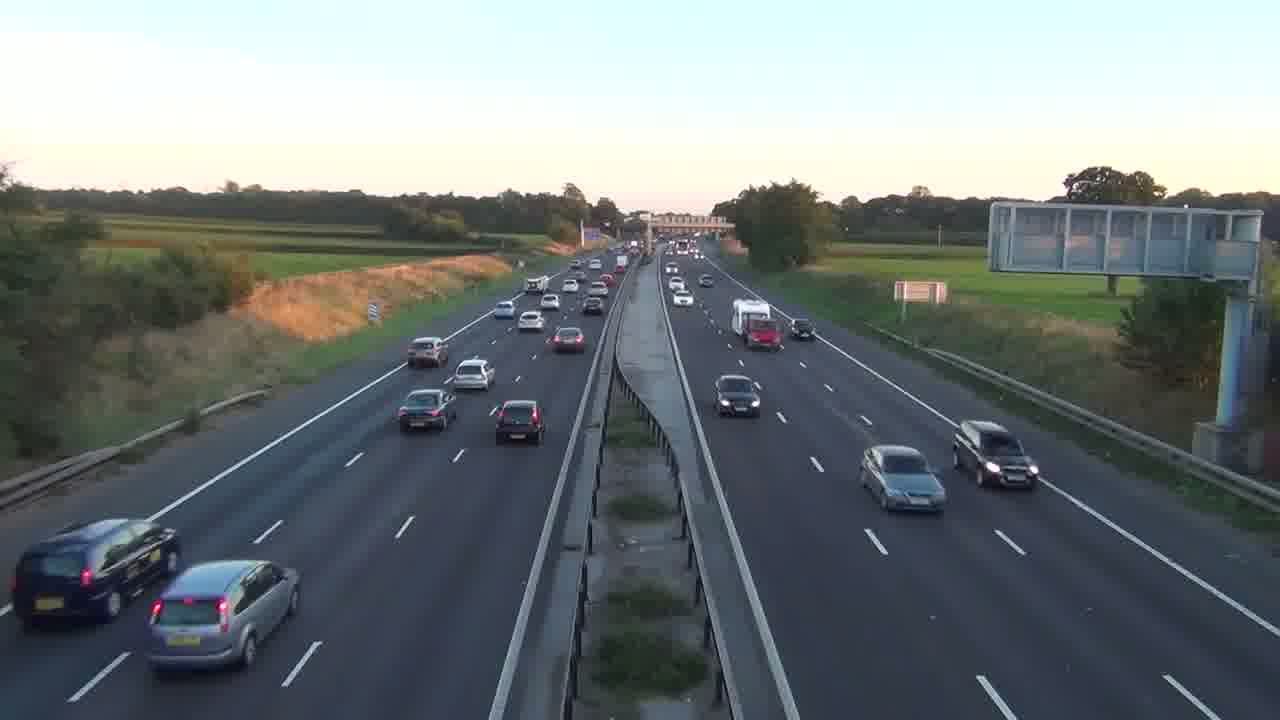car: (11, 516, 183, 631), (144, 558, 302, 674), (858, 443, 948, 514), (952, 418, 1041, 489), (396, 388, 457, 432), (493, 399, 545, 444), (713, 373, 763, 419), (442, 357, 496, 391), (547, 326, 586, 355), (494, 299, 516, 319)
truck: (11, 516, 183, 631)
